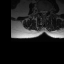CCS_normal: (43, 8, 45, 16)
LFS_normal: (47, 8, 49, 13)
LLS_normal: (45, 9, 47, 14)
RFS_normal: (39, 8, 41, 13)
RLS_normal: (41, 9, 43, 15)
